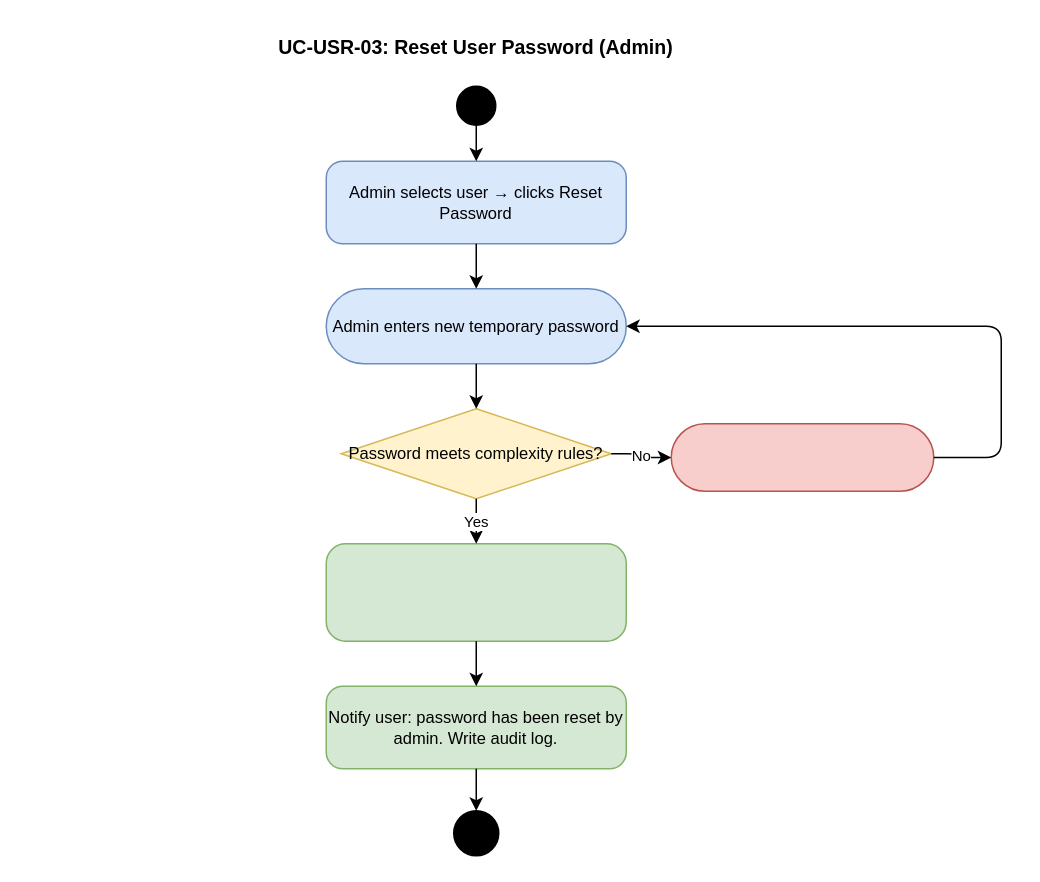
Some shapes in this 1040 by 882 pixel diagram are drawn without their labels. The shapes that lost their labels are listed below. From the top down, each one's box as (x1, y1, x2, y2) in pixels, then its label:
(670, 422, 934, 491): Highlight failing rules
(325, 542, 626, 641): Hash and save new password. Set must_change_password = true. Clear lockout.
